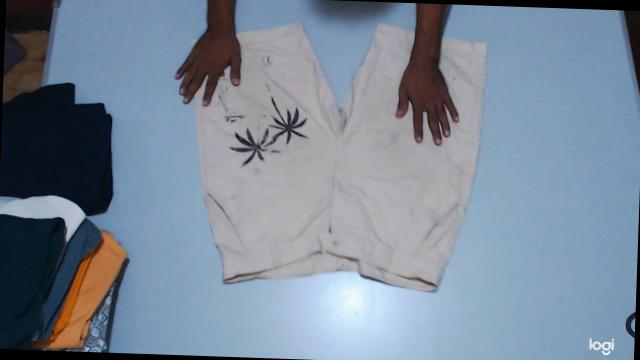new-garment: (195, 22, 486, 291)
